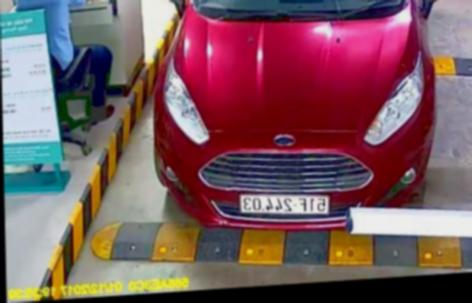License_Plate: (234, 184, 332, 224)
